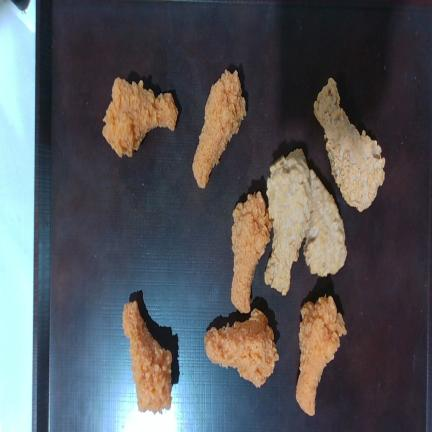chicken: (314, 78, 385, 211), (265, 149, 312, 295), (192, 70, 246, 187), (102, 77, 178, 157), (296, 296, 346, 415), (205, 310, 278, 387), (123, 301, 172, 413), (231, 191, 271, 313), (303, 170, 347, 276)
